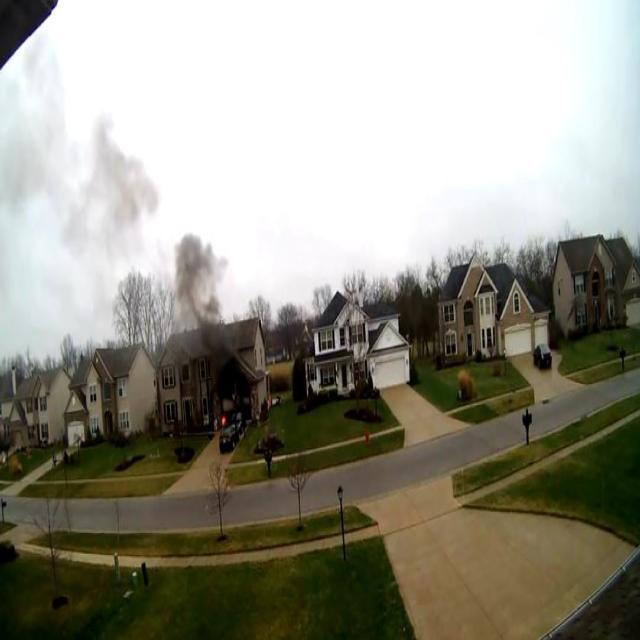Fire: (220, 408, 228, 427)
Smoke: (0, 72, 161, 269), (0, 271, 172, 349), (174, 227, 232, 358)
